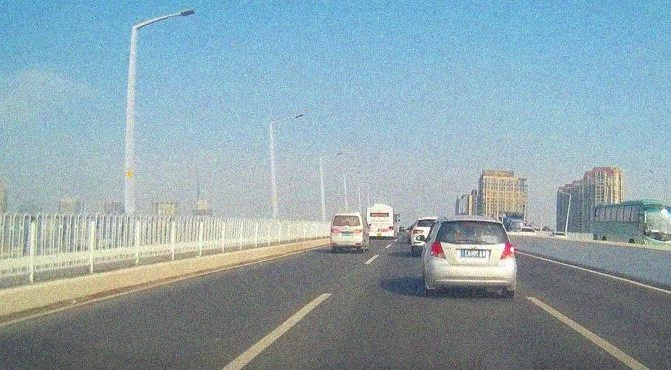L_light: (430, 241, 446, 259), (330, 228, 340, 234)
R_light: (500, 242, 515, 260), (353, 229, 362, 234)
T_light: (464, 221, 478, 226), (343, 215, 350, 218)
day-no: (330, 212, 363, 252)
day-right: (426, 215, 517, 297)
